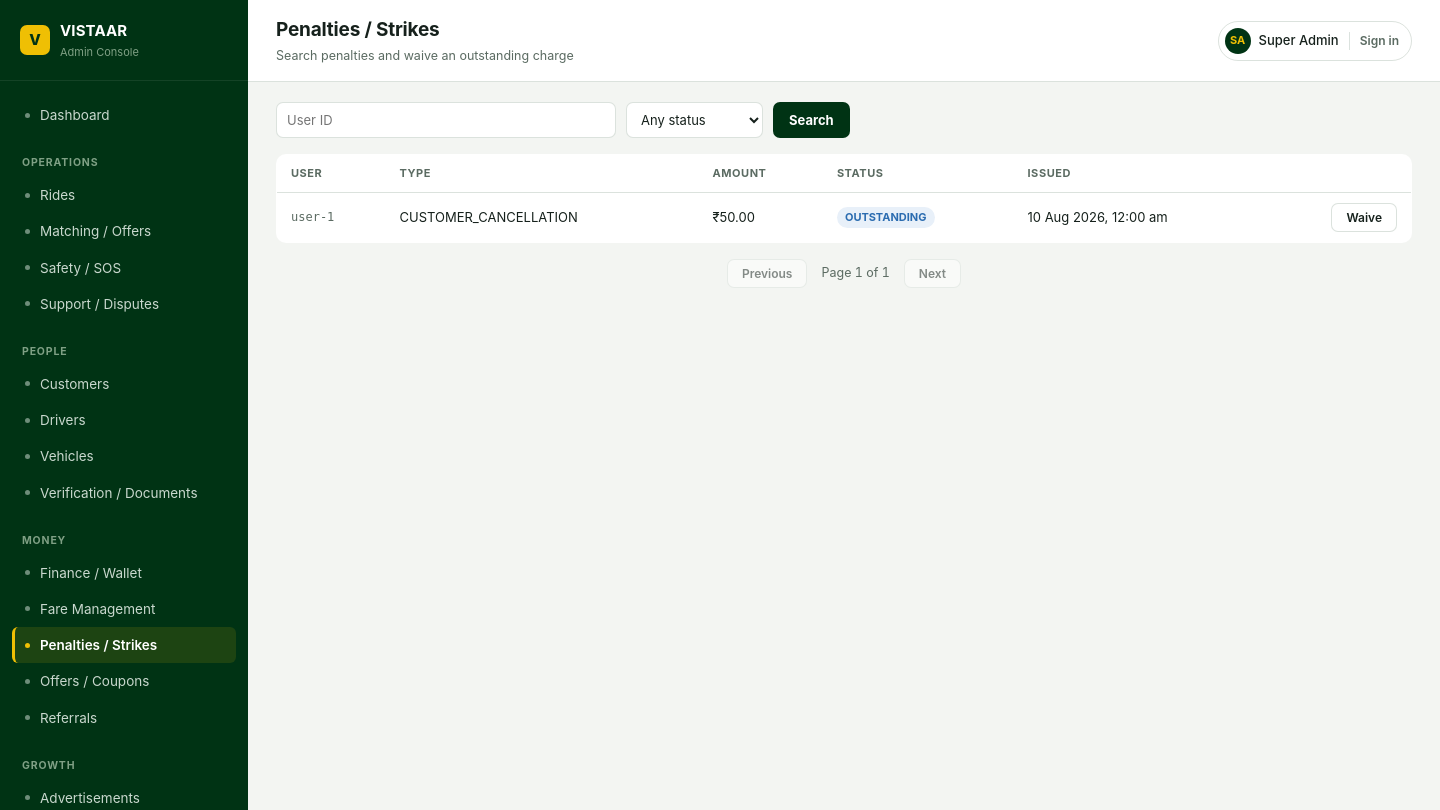
Scenario: PenaltiesPage › waives an outstanding penalty with the entered reason
Click the button "Waive": click(1364, 217) [1332,203,1397,232]
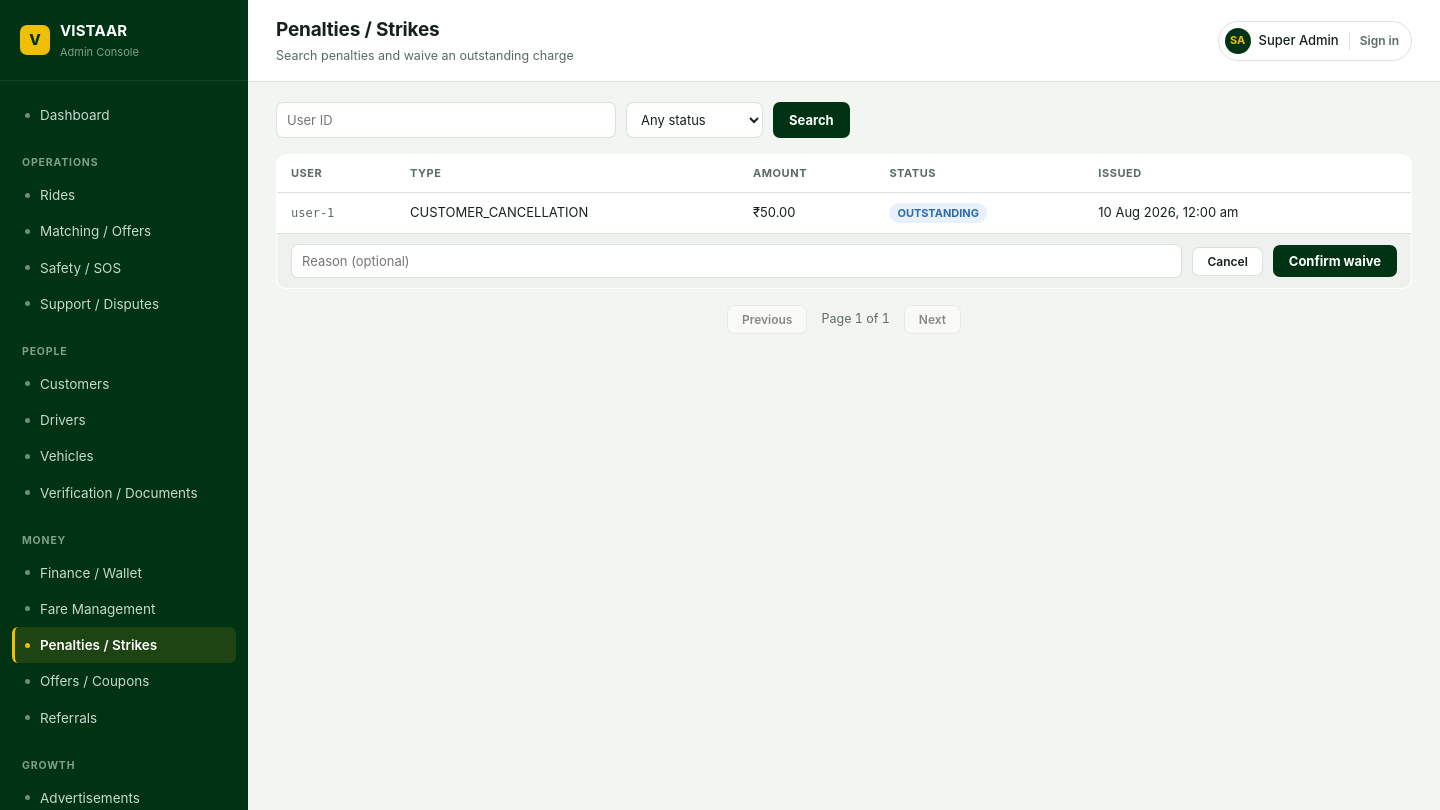
In the field named "Waive reason": (737, 261) [291,244,1182,278], type "Goodwill gesture"
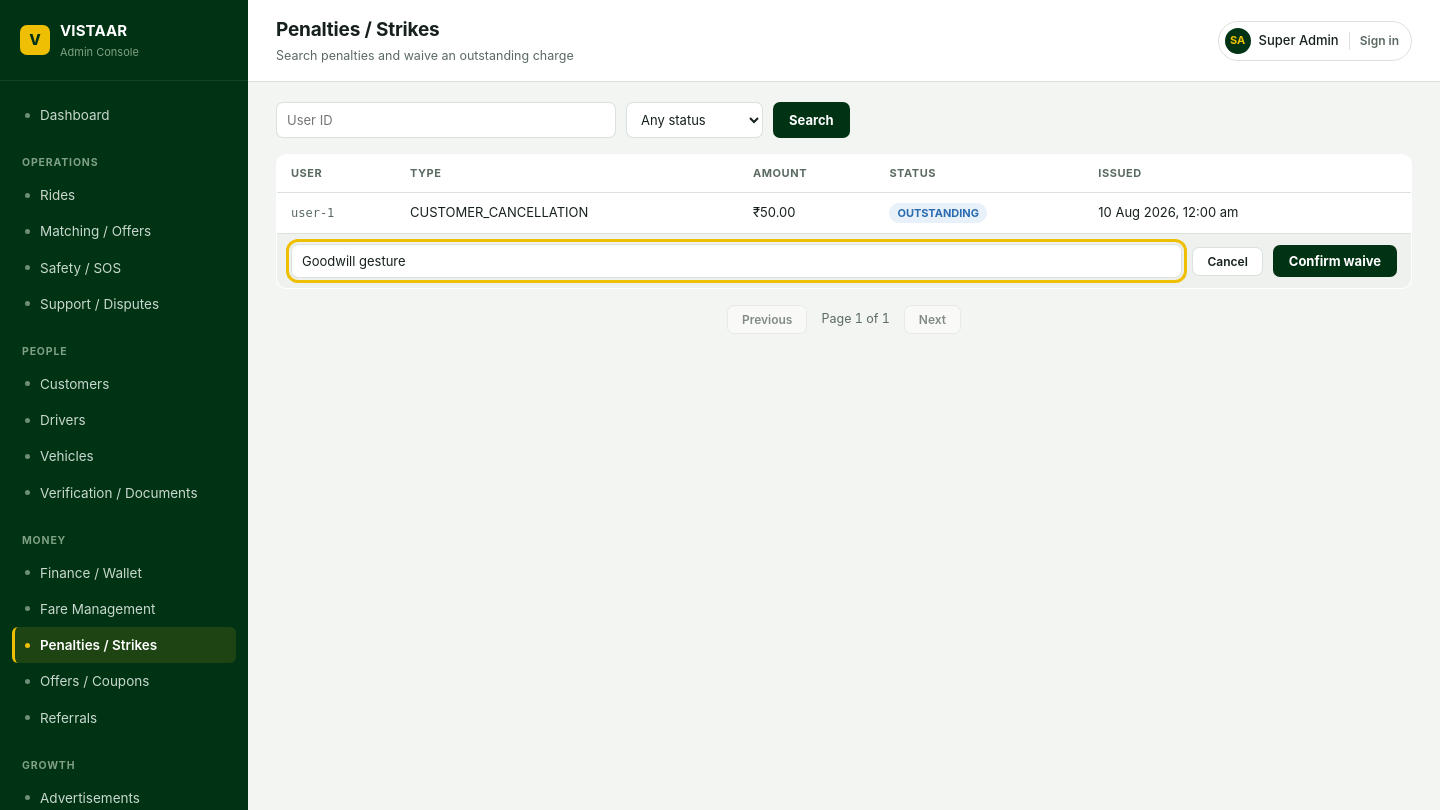
Click the button "Confirm waive": click(1335, 261) [1273,245,1397,277]
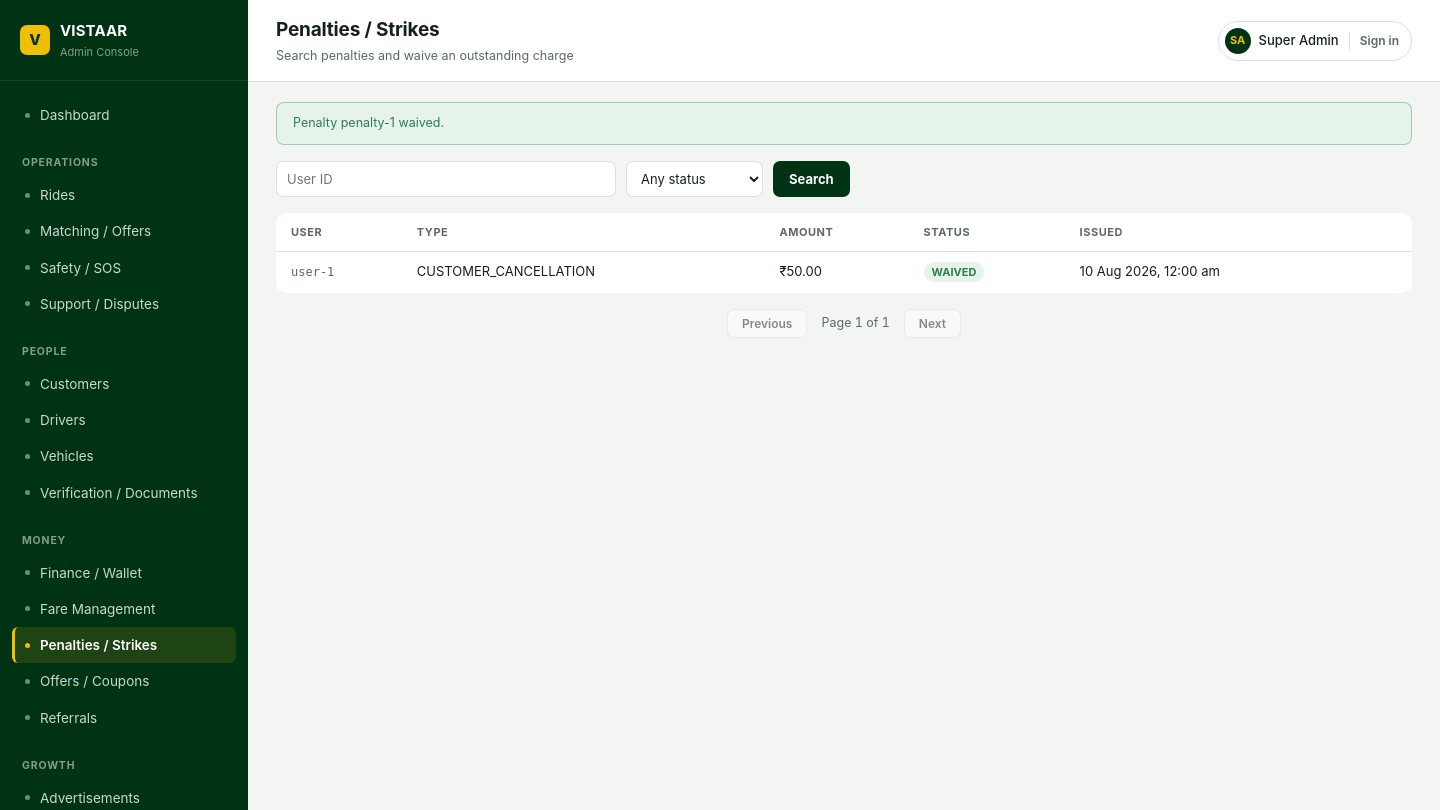
Now the text "Penalty penalty-1 waived." is shown, box [276,102,1412,145]
